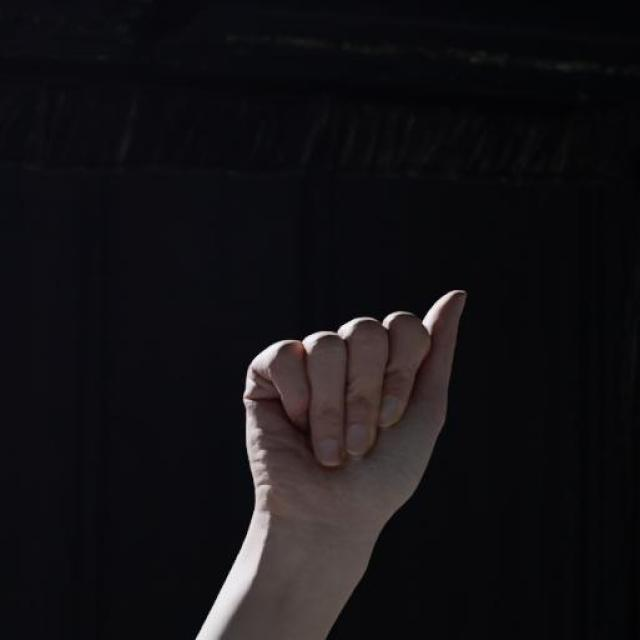A: (239, 284, 471, 525)
